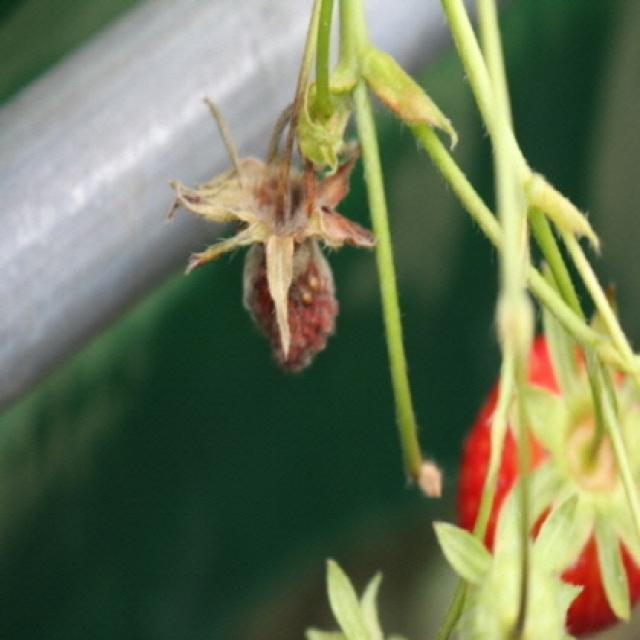Gray Mold: (165, 97, 379, 376)
Health_100: (454, 324, 640, 640)
